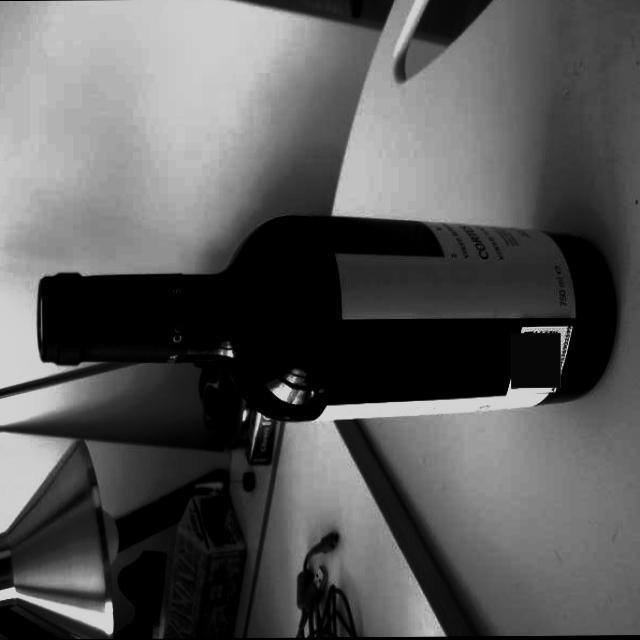qr_code: (511, 333, 561, 388)
